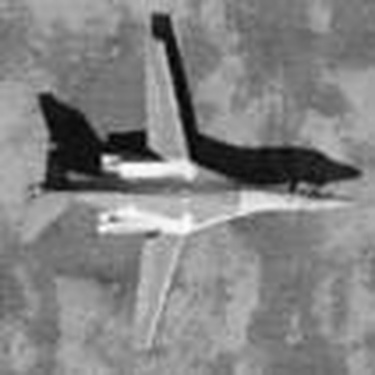airplane: (17, 6, 358, 352)
